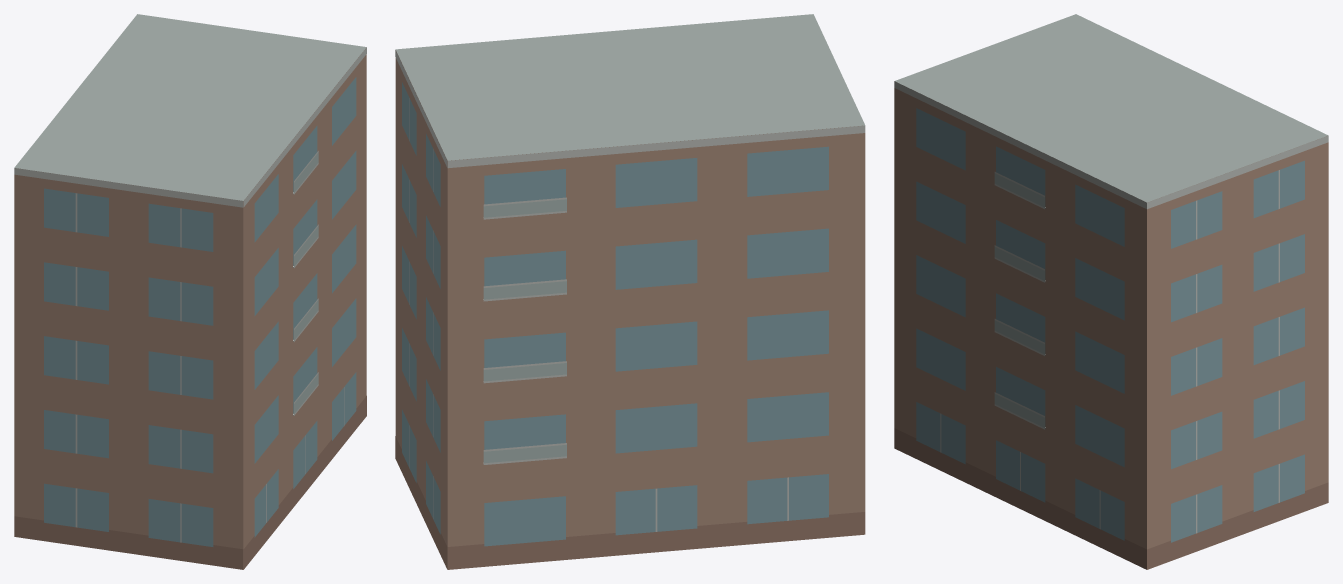
Rendered from survey-upis-32966889.glb.
3 renders of one model, left to right at view 1: azimuth 30°, elevation 25°; view 2: azimuth 150°, elevation 25°; view 3: azimuth 270°, elevation 25°, orthographic. The views are drawn at different scales.
Visible parts, largest first — view 1: survey-upis-32966889.tmp; view 2: survey-upis-32966889.tmp; view 3: survey-upis-32966889.tmp.
Boxes of the visible parts, <box> form: survey-upis-32966889.tmp: <box>14,14,366,569</box>; survey-upis-32966889.tmp: <box>395,14,865,569</box>; survey-upis-32966889.tmp: <box>894,14,1328,569</box>.
Bounding box in the file's own units: 14.65 × 13.3 × 14.26.
